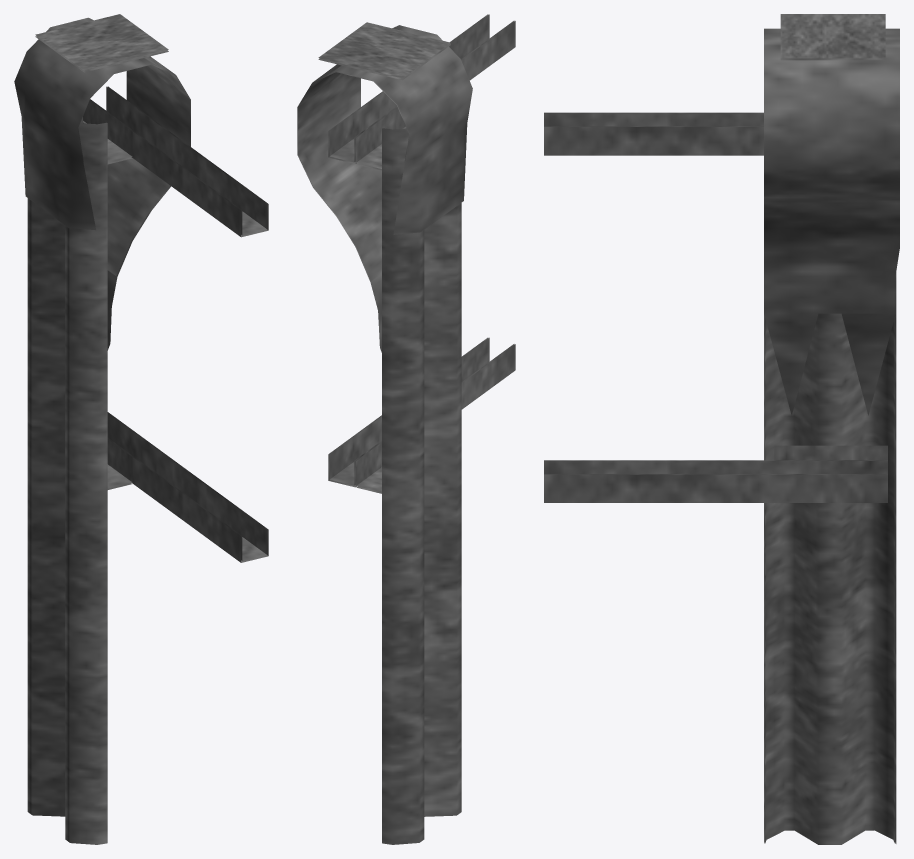
Rendered from swb-end-1.fbx.
The picture shows the model from 3 angles, left to right: view 1: azimuth 30°, elevation 25°; view 2: azimuth 150°, elevation 25°; view 3: azimuth 270°, elevation 25°; orthographic projection. The views are drawn at different scales.
Visible parts, largest first — view 1: swb-end-1; view 2: swb-end-1; view 3: swb-end-1.
Part boxes in pixels (x1,y1,x2,y2): swb-end-1: (14, 14, 268, 844); swb-end-1: (297, 14, 515, 844); swb-end-1: (544, 14, 899, 844).
Size of the model in its own units: 32.91 by 214 by 83.94.
